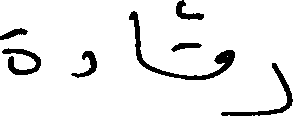ا: (133, 9, 143, 68)
ة: (0, 26, 39, 75)
د: (71, 48, 94, 78)
ر: (232, 49, 290, 115)
م: (207, 45, 234, 78)
